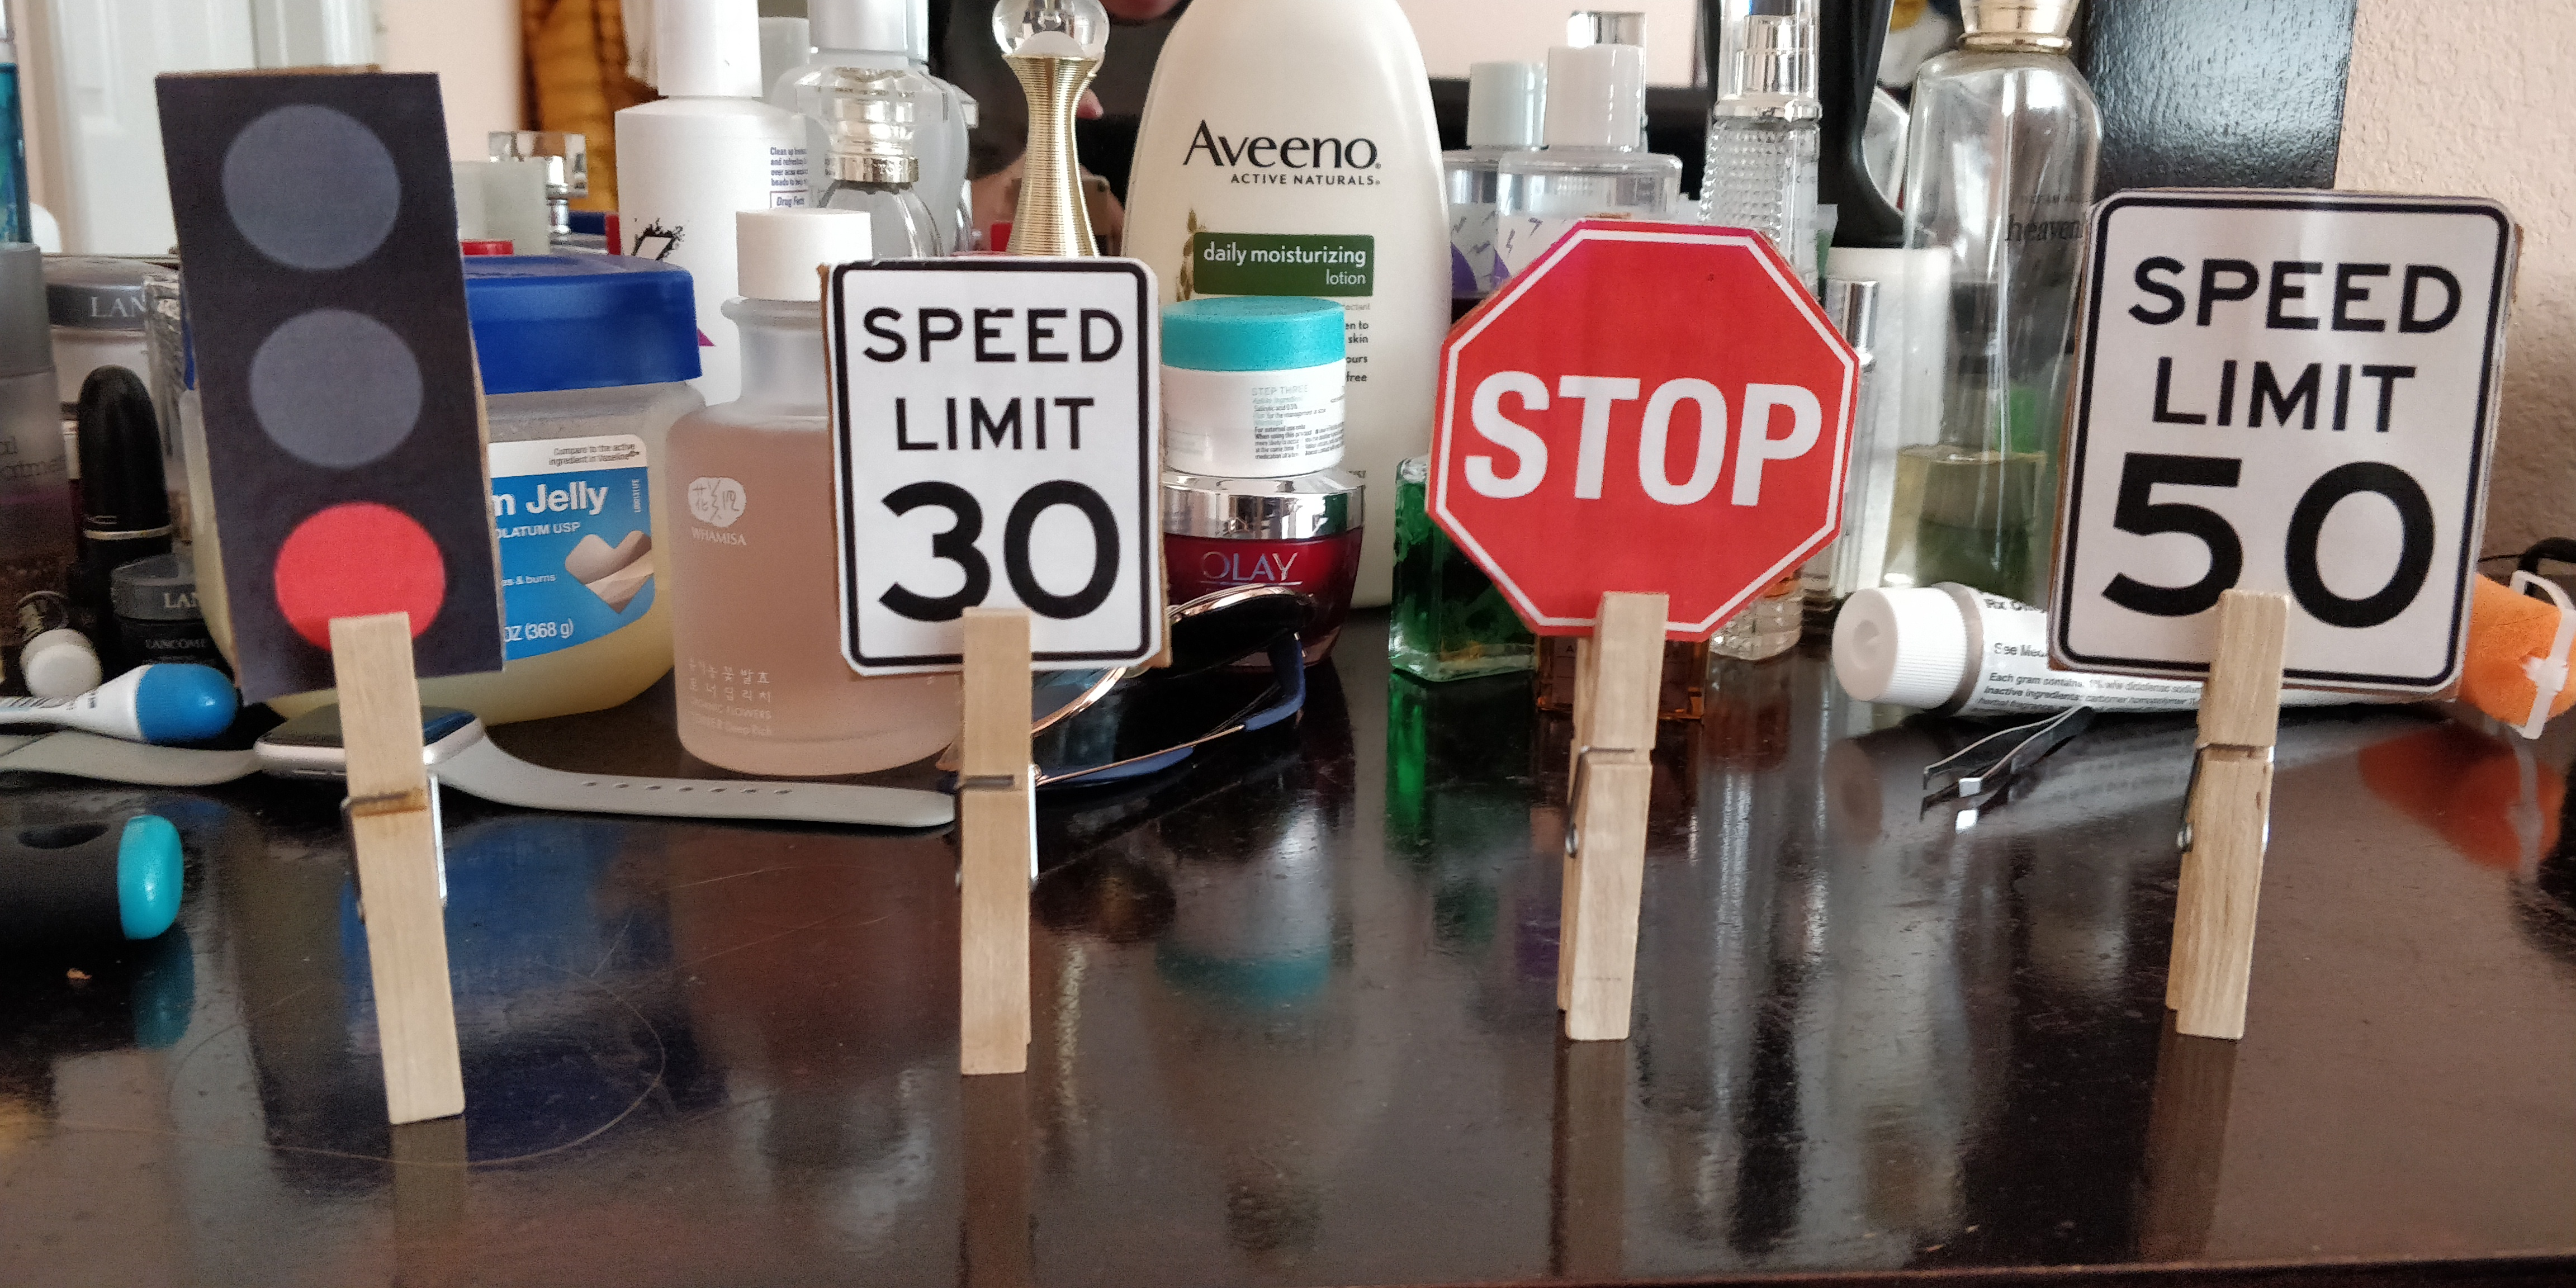Speed Limit 30: (813, 253, 1178, 677)
Speed Limit 50: (2042, 194, 2522, 693)
Stop Sign: (1426, 215, 1861, 644)
red light: (154, 66, 506, 701)
